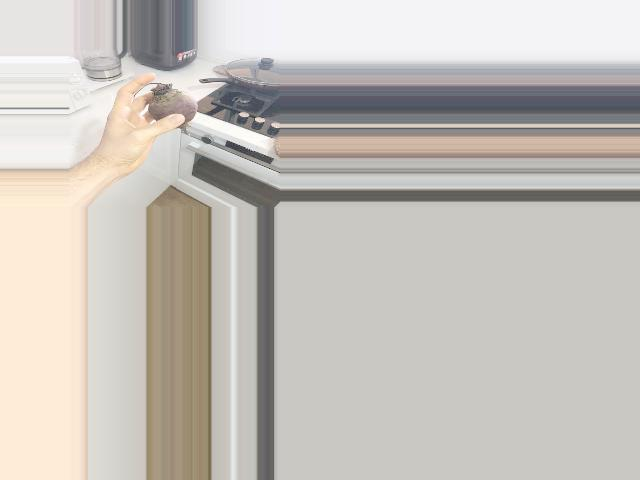beet: (134, 83, 197, 136)
